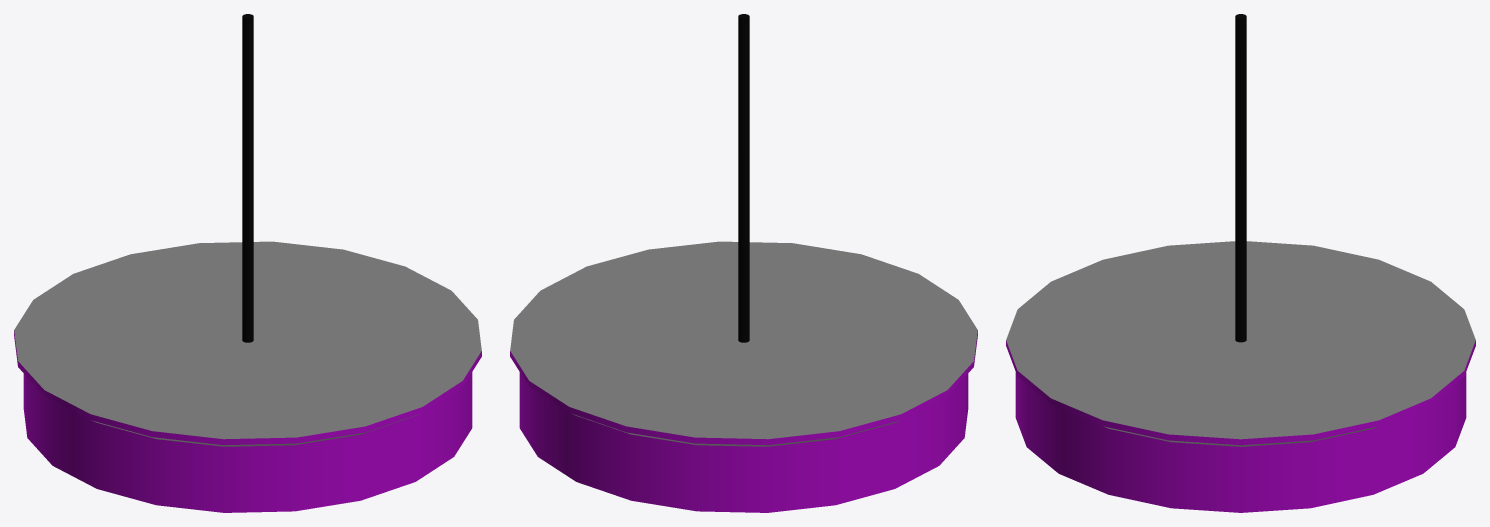
The model's file is strip_pole_big.FBX.
3 renders of one model, left to right at view 1: azimuth 30°, elevation 25°; view 2: azimuth 150°, elevation 25°; view 3: azimuth 270°, elevation 25°, orthographic.
Parts seen in each view (by area): view 1: stripping_pole_large; view 2: stripping_pole_large; view 3: stripping_pole_large.
Boxes of the visible parts, x1=… form: stripping_pole_large: x1=14, y1=14, x2=481, y2=512; stripping_pole_large: x1=510, y1=14, x2=977, y2=512; stripping_pole_large: x1=1006, y1=14, x2=1475, y2=512.
Size of the model in its own units: 145 by 137 by 145.
